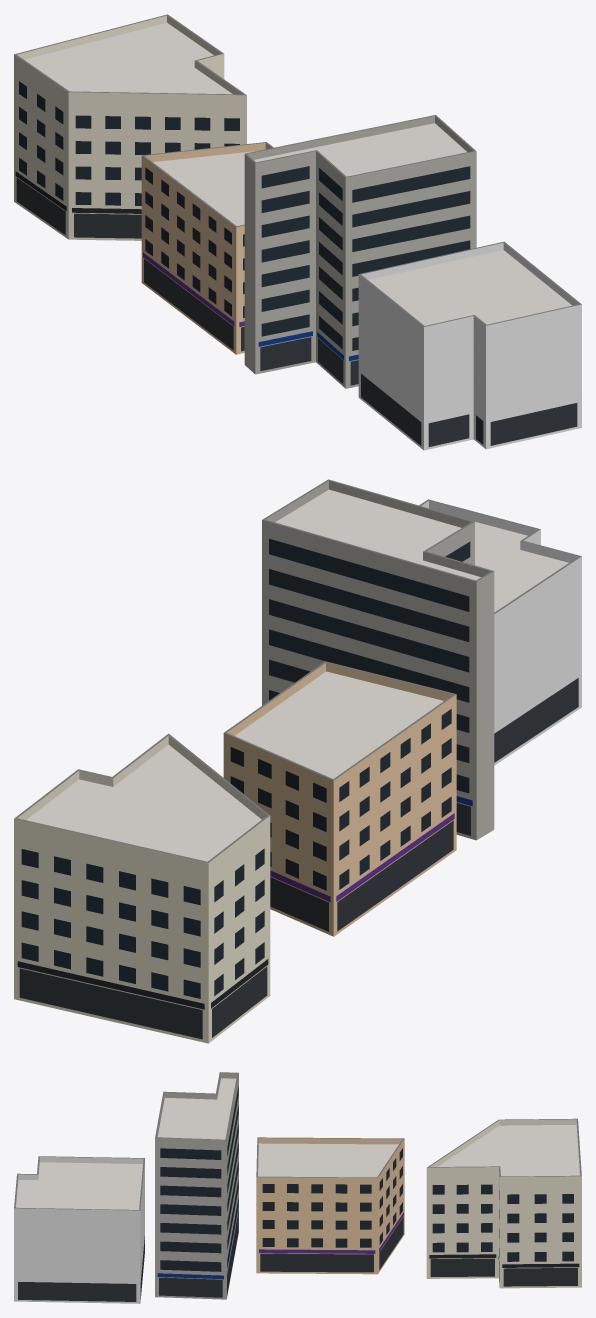
Rendered from north_mid.glb.
3 renders of one model, top to bottom at view 1: azimuth 30°, elevation 25°; view 2: azimuth 150°, elevation 25°; view 3: azimuth 270°, elevation 25°, orthographic. The views are drawn at different scales.
Parts seen in each view (by area): view 1: north_mid; view 2: north_mid; view 3: north_mid.
Boxes of the visible parts, x1,y1,x2,y2 form: north_mid: (14,14,581,450); north_mid: (14,479,581,1043); north_mid: (14,1072,581,1303).
Size of the model in its own units: 26.35 by 26.5 by 85.61.
